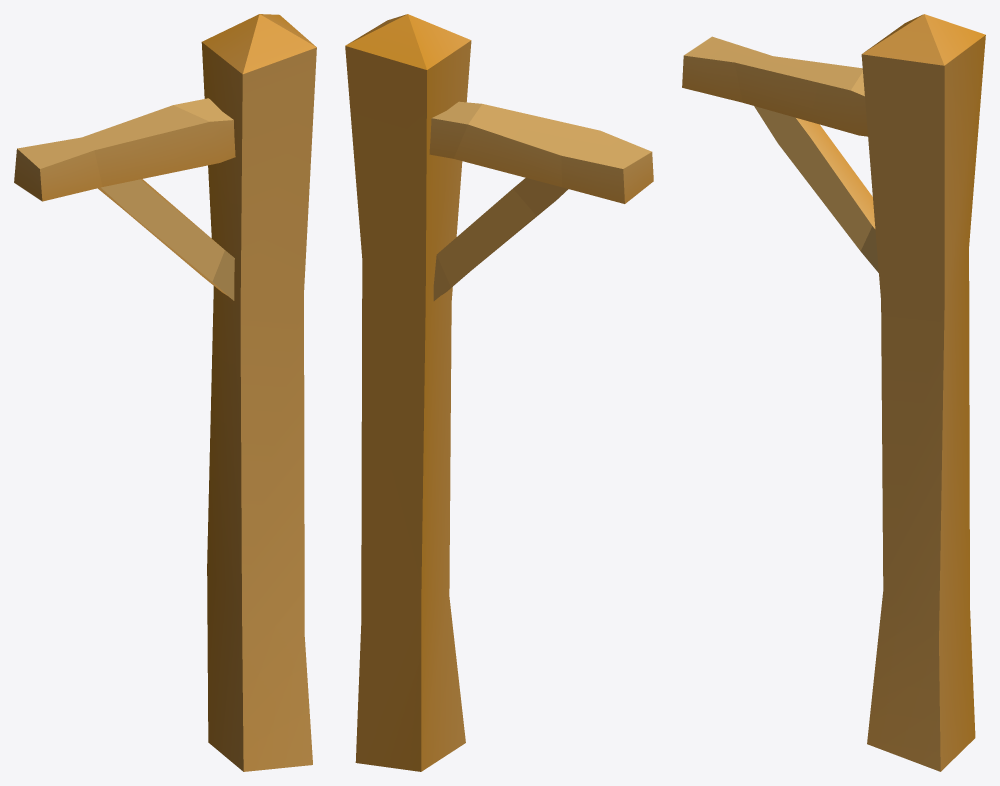
The model's file is TiangKayu2.fbx.
3 renders of one model, left to right at view 1: azimuth 30°, elevation 25°; view 2: azimuth 150°, elevation 25°; view 3: azimuth 330°, elevation 25°, orthographic.
Visible parts, largest first — view 1: Wood_high_1; view 2: Wood_high_1; view 3: Wood_high_1.
Part boxes in pixels (x1=…): Wood_high_1: x1=14, y1=14, x2=316, y2=771; Wood_high_1: x1=345, y1=14, x2=653, y2=771; Wood_high_1: x1=682, y1=14, x2=985, y2=771.
Size of the model in its own units: 66.66 by 174 by 18.81.
